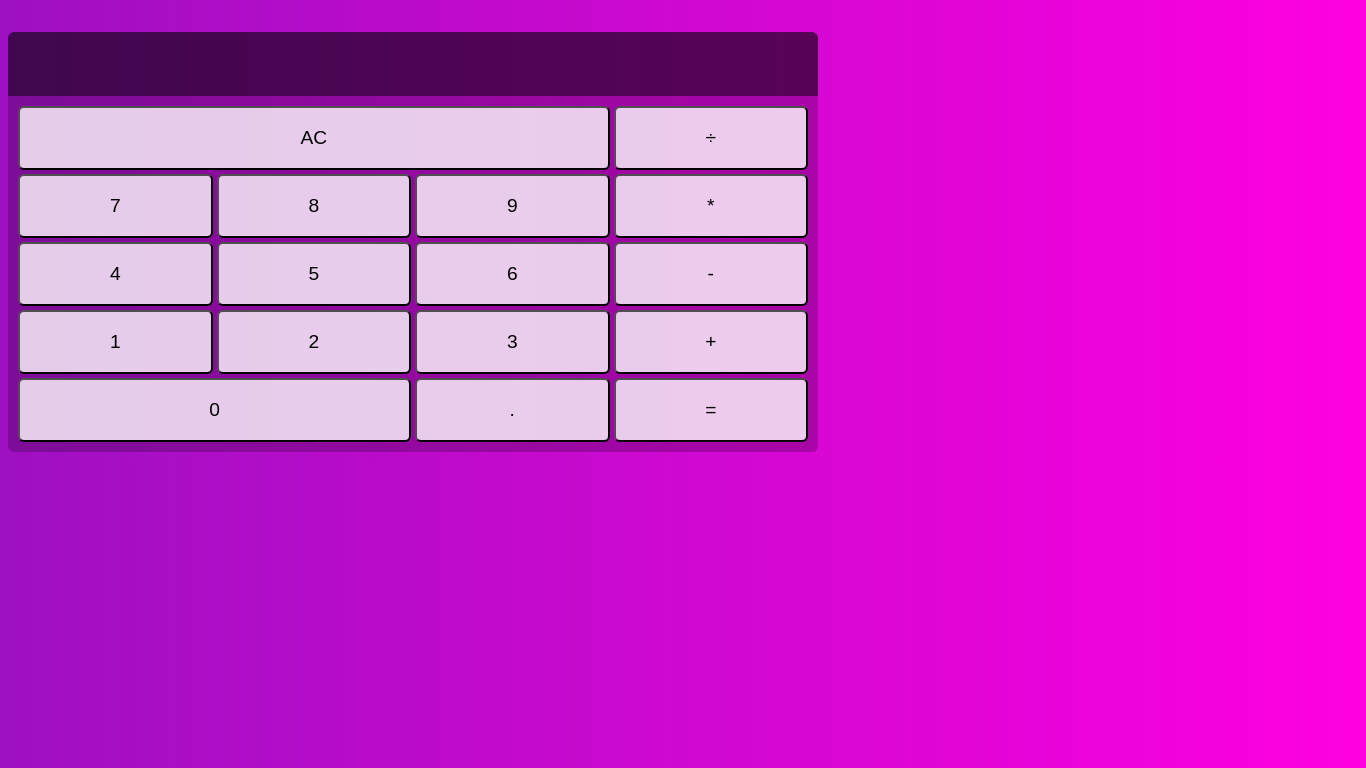
Test: Calculator › adds digits to the display correctly
Click the button "1": click(115, 342) [18, 310, 212, 374]
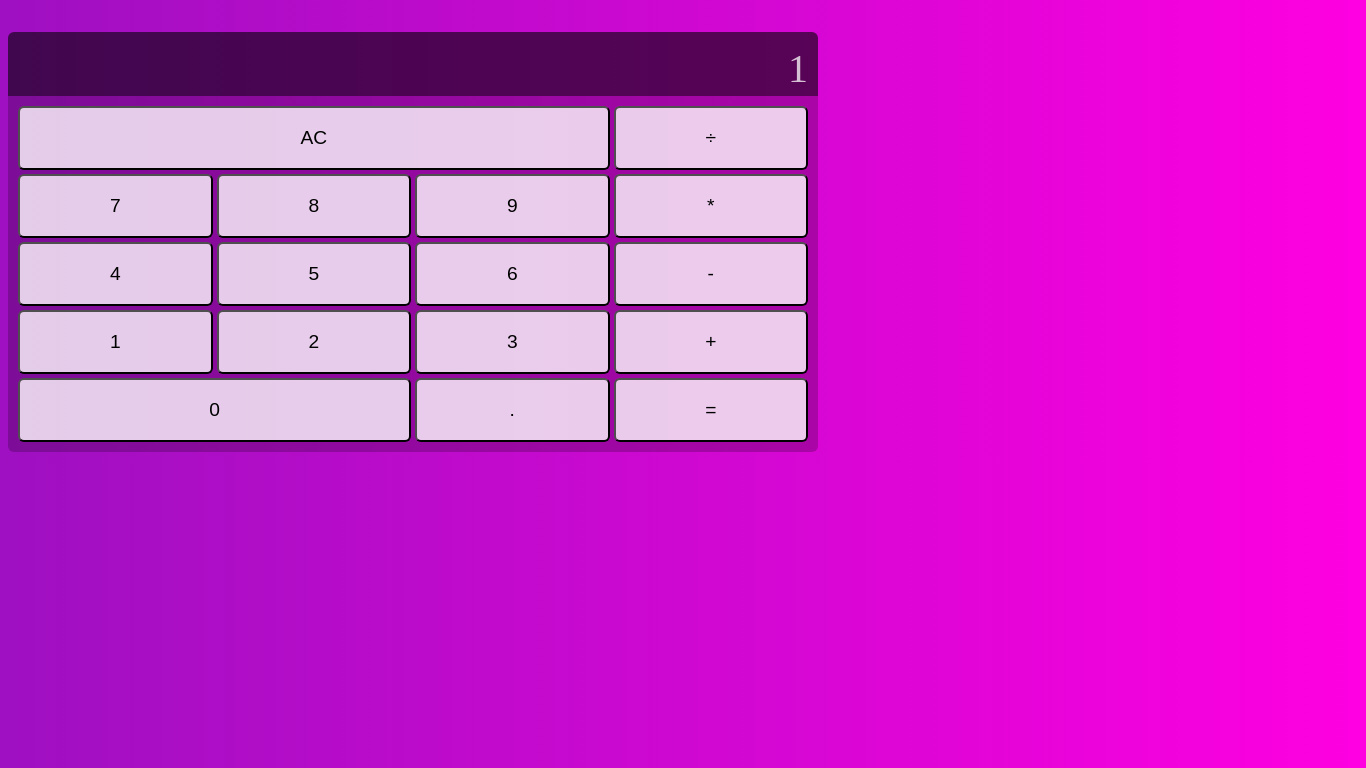
Click the button "2": click(314, 342) [216, 310, 411, 374]
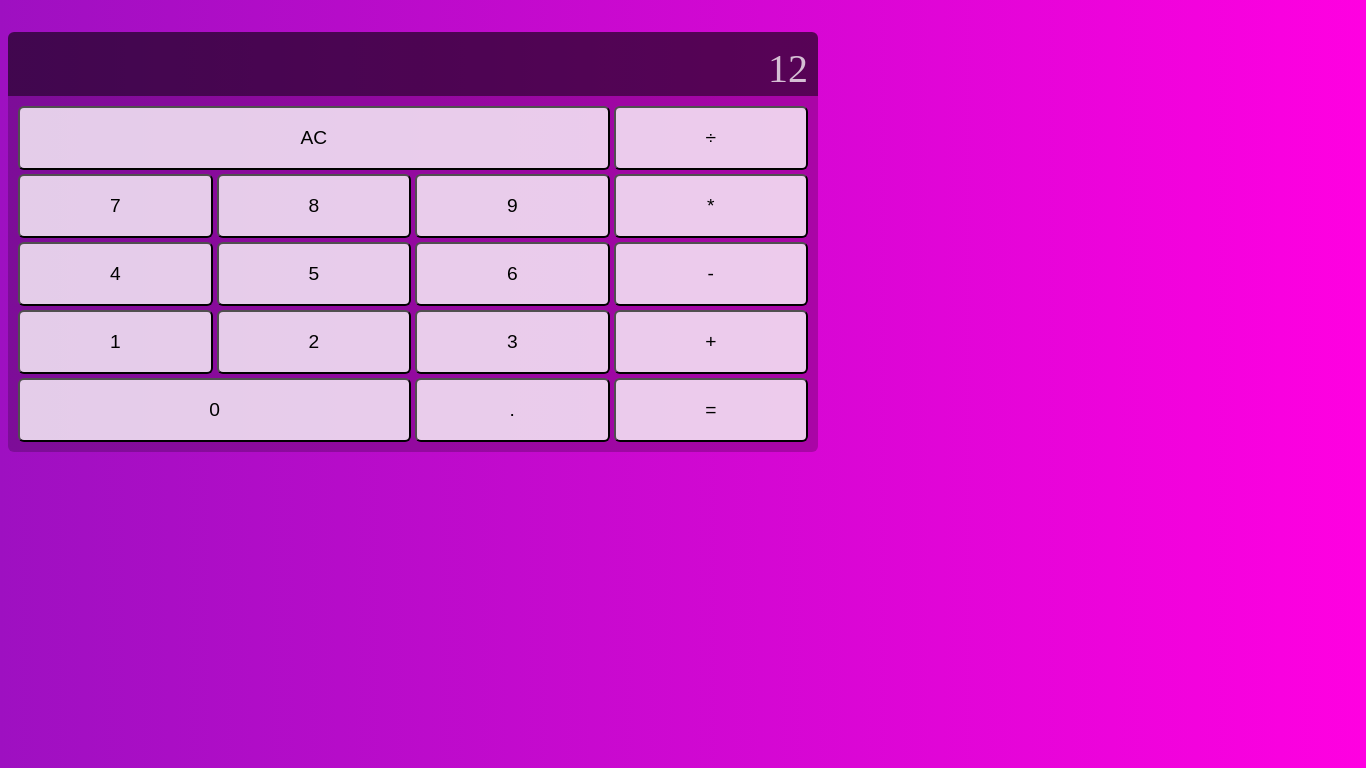
Click the button "3": click(512, 342) [415, 310, 610, 374]
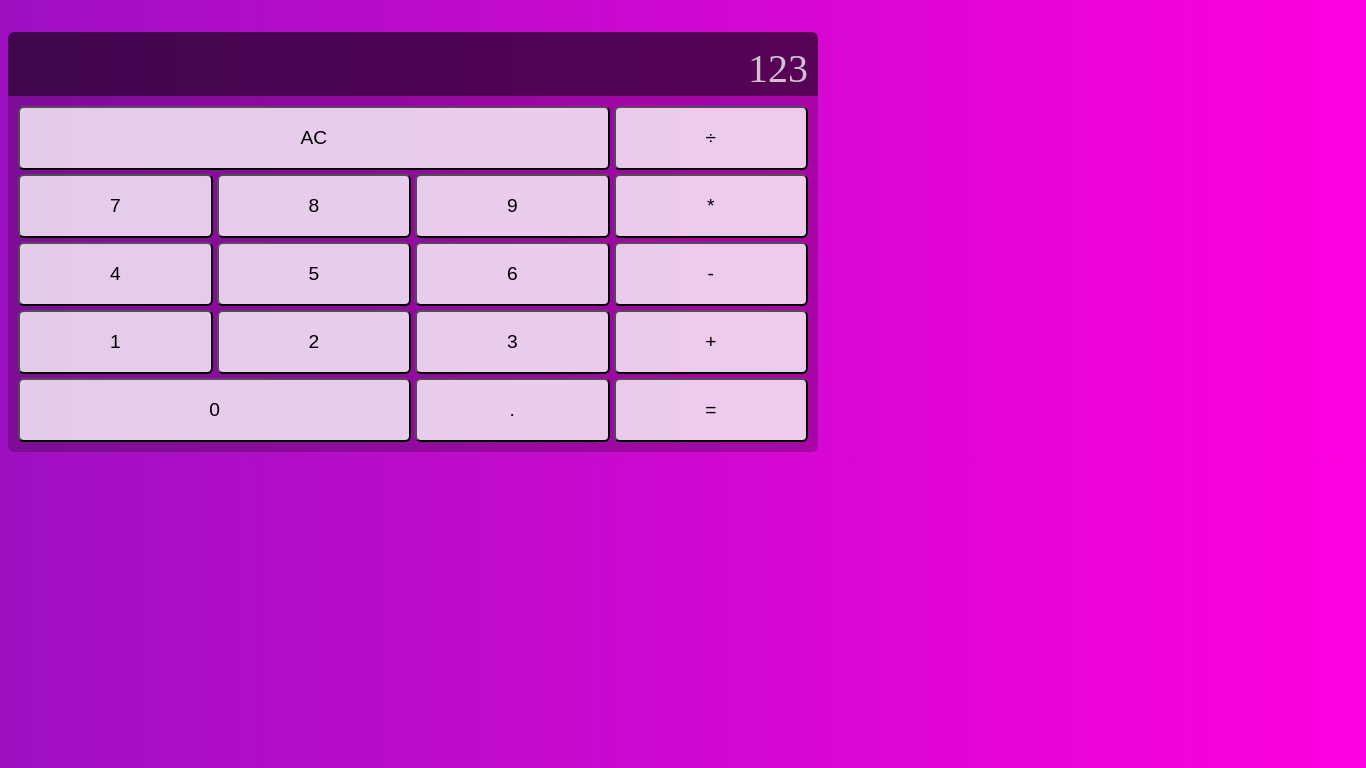
Now the element showing "123" is shown, box [8, 32, 818, 96]
